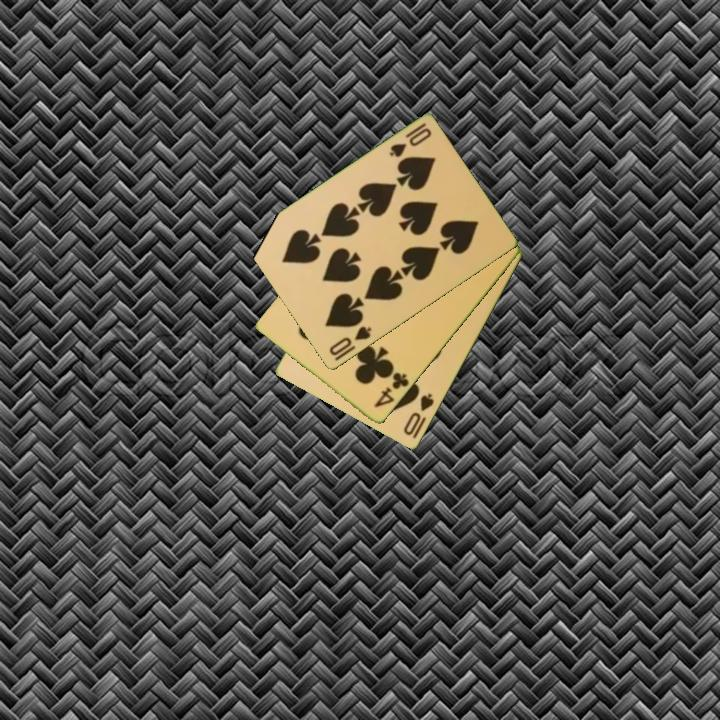10s: (386, 120, 434, 161), (400, 390, 437, 439), (325, 323, 375, 359)
4c: (371, 369, 412, 411)
